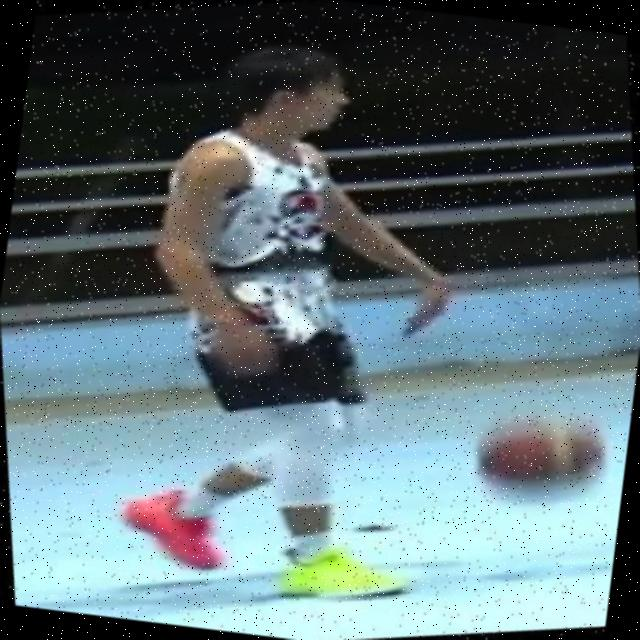ball: (441, 391, 624, 516)
